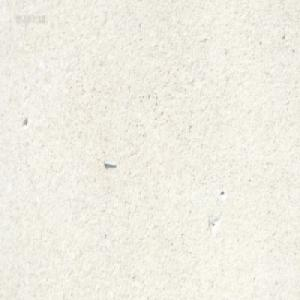Nail: (103, 158, 116, 167)
